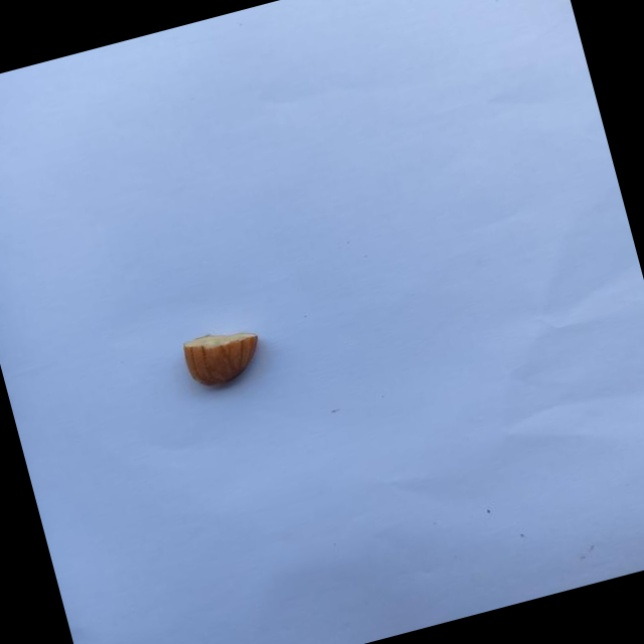grade4: (173, 316, 277, 400)
